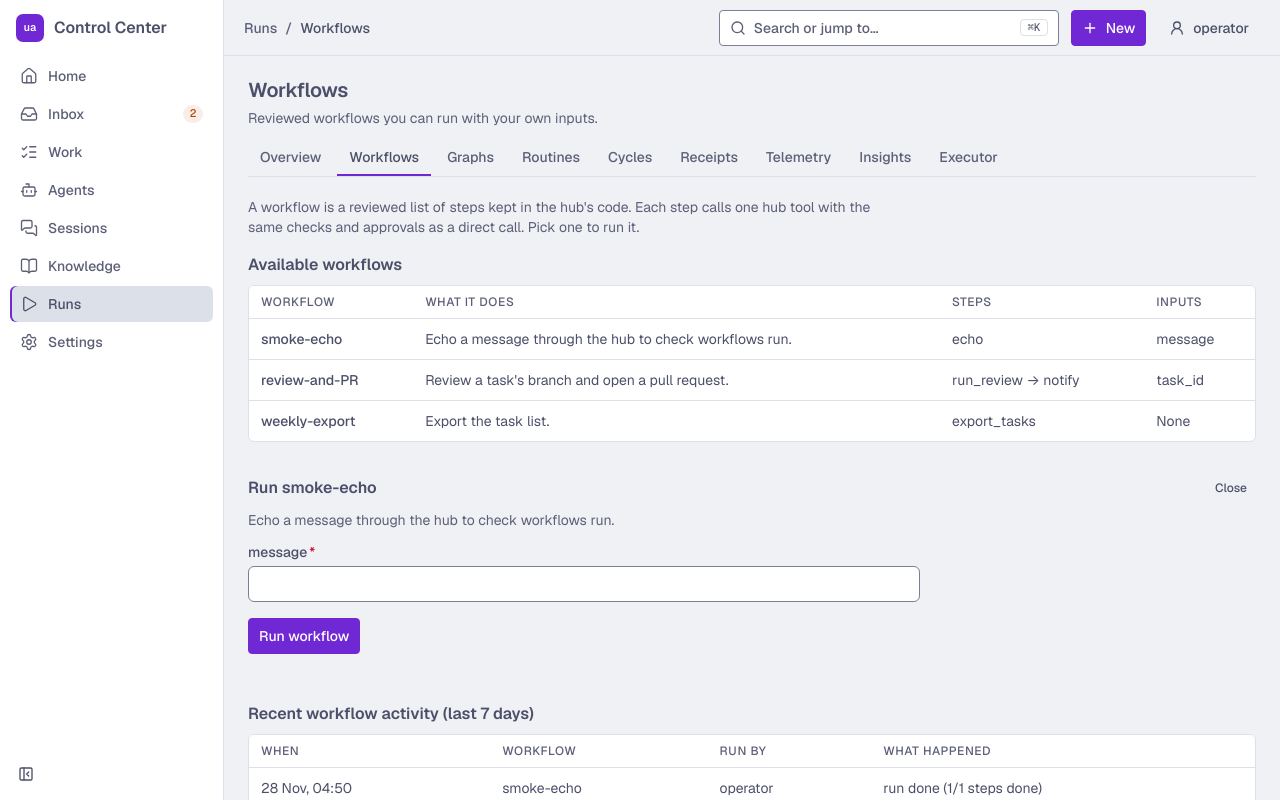
Test: /runs/workflows › builds the form from the declared inputs and moves focus to the first missing one
Click the button "Run workflow" at (304, 636), box top-left (248, 618), bottom-right (360, 654)
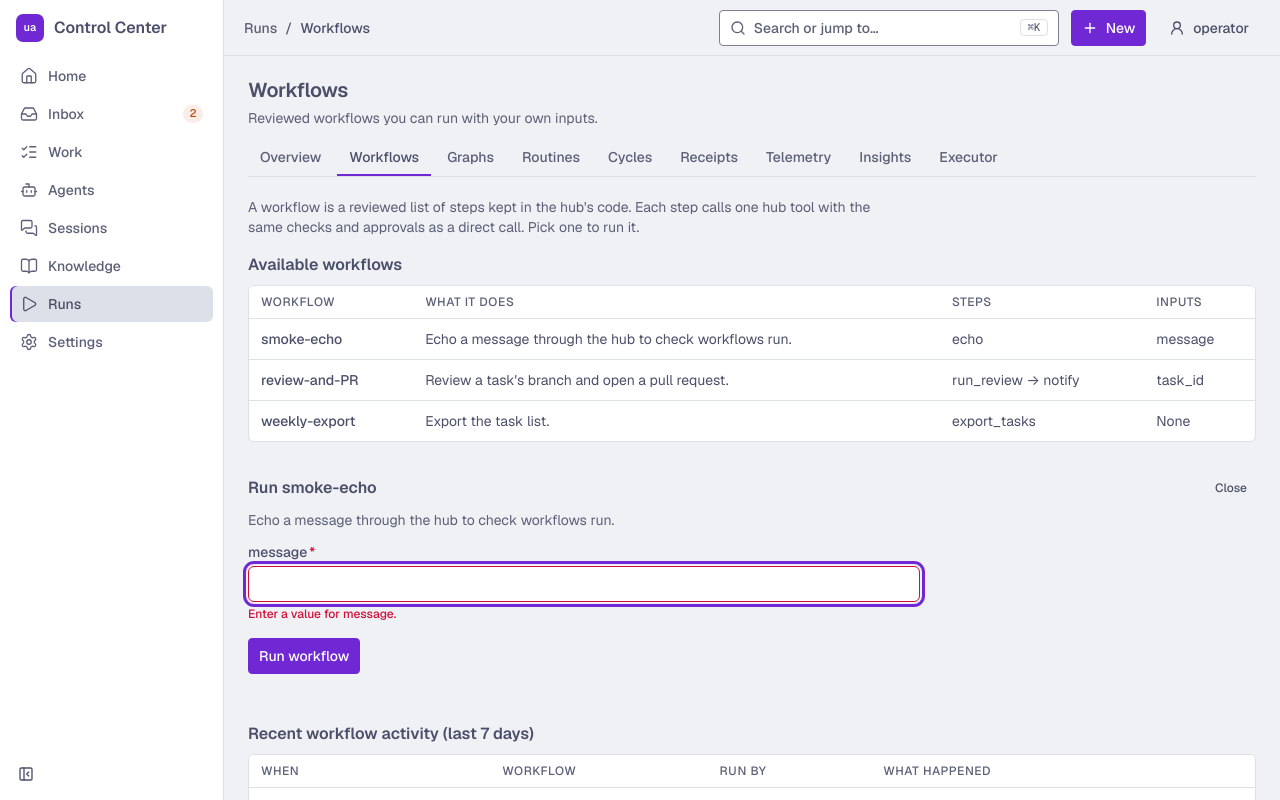
Expected: the text "Enter a value for message." is shown, top-left (248, 606), bottom-right (396, 622)
